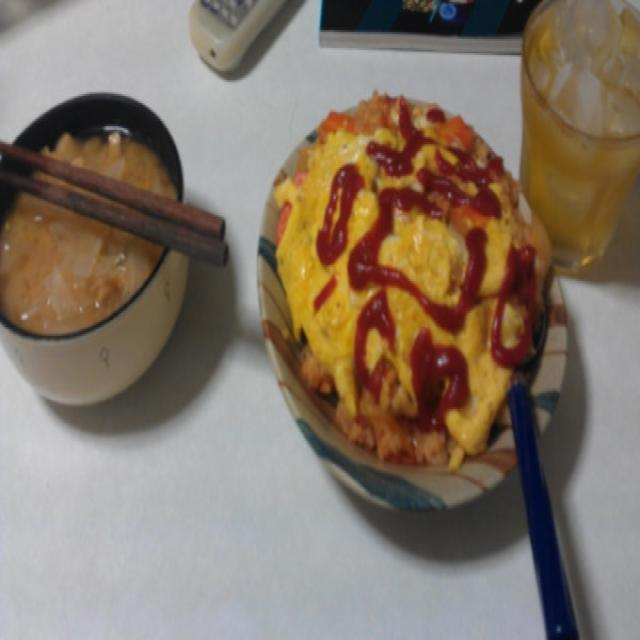汤锅炖物: (0, 85, 186, 411)
